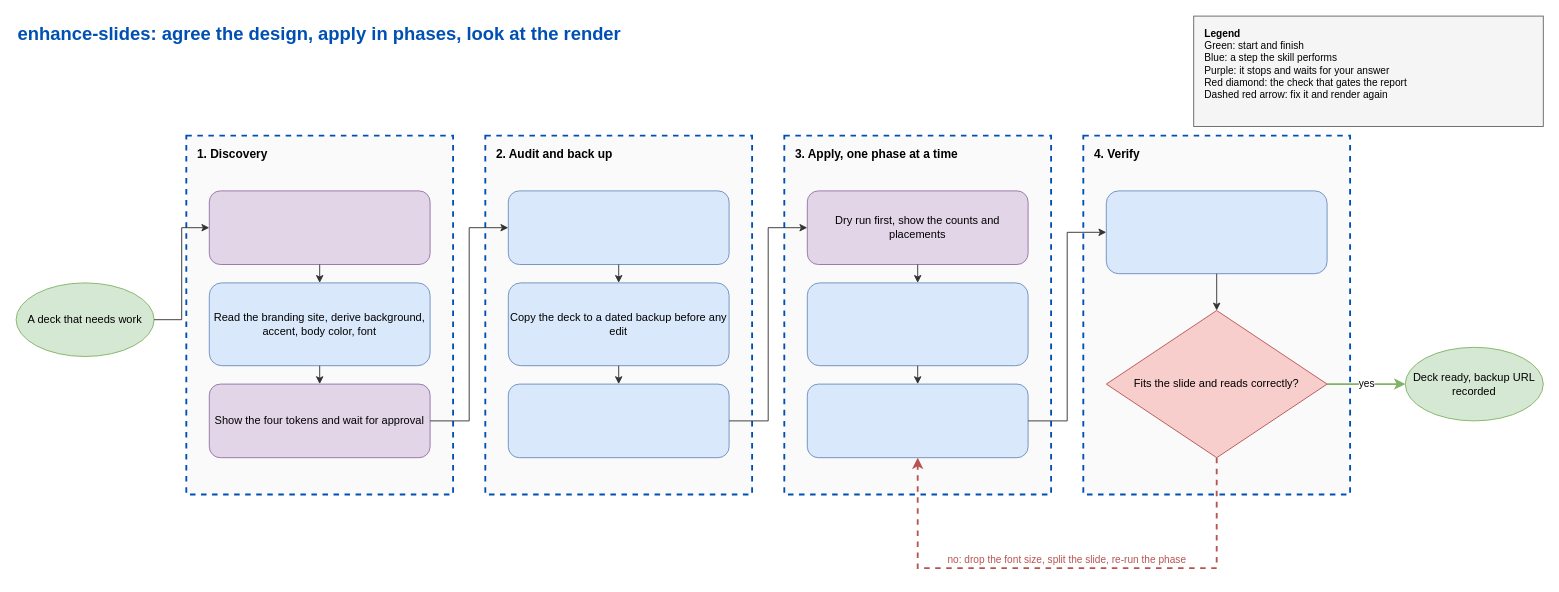
The diagram is 1559 pixels wide and 592 high, and some of its shapes have lost their labels. Each missing label, with the centre of its shape:
"Ask two questions: which content sources, and whose branding" belongs at (319,227).
"Cards, code boxes, real tables, linked contents" belongs at (917,420).
"Plan the numbered phases, one batchUpdate each" belongs at (618,420).
"Read the deck, write the audit of what is wrong" belongs at (618,227).
"Render every slide you touched to a PNG and read the image" belongs at (1216,232).
"Text fixes, titles, design pass, new slides, body styling, icons" belongs at (917,324).
